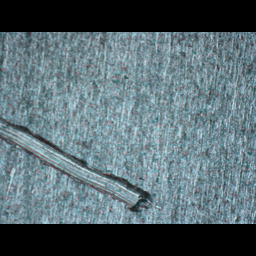d: (0, 114, 152, 213)
